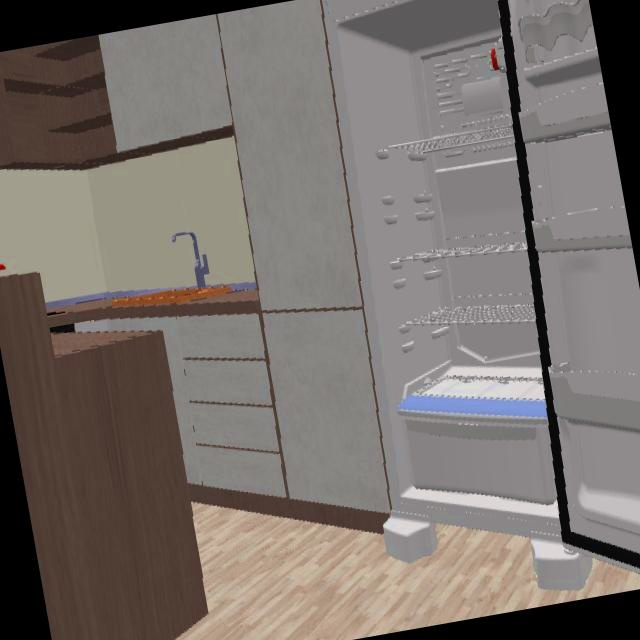countertop: (48, 282, 262, 323)
fridge: (328, 0, 640, 538)
sink: (151, 286, 234, 302)
